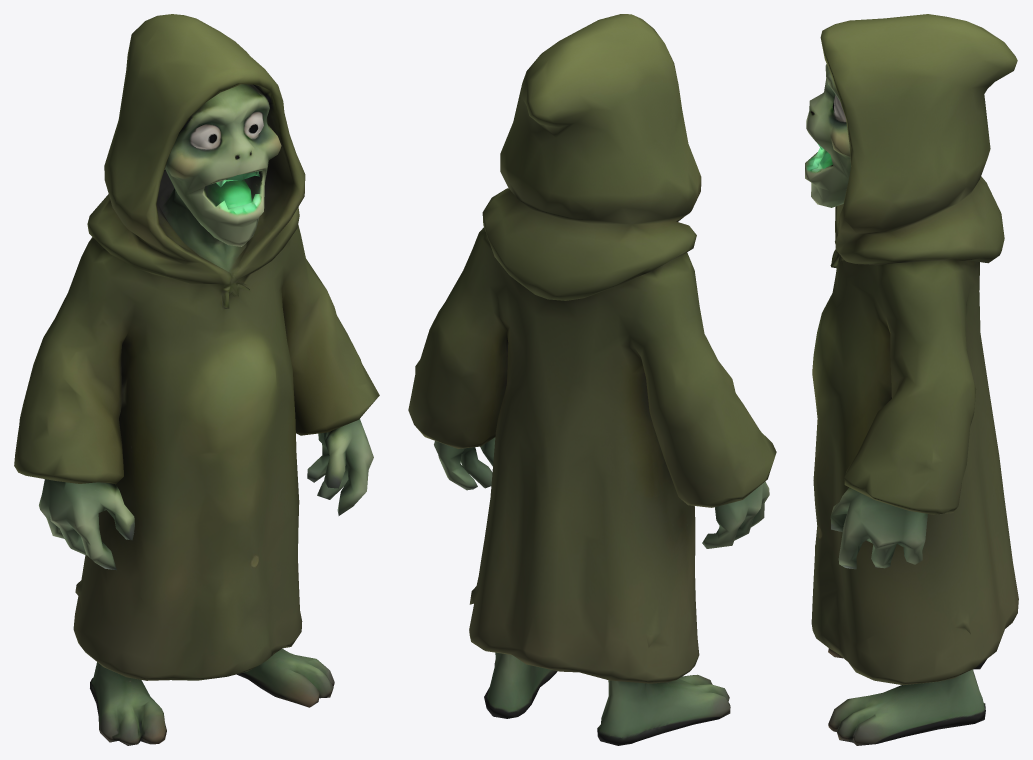
The model's file is spitter.glb.
3 renders of one model, left to right at view 1: azimuth 30°, elevation 25°; view 2: azimuth 150°, elevation 25°; view 3: azimuth 270°, elevation 25°, orthographic.
Visible parts, largest first — view 1: tripo_node_89e0ee0a-8192-44b1-bfd0-0d79321e88f1; view 2: tripo_node_89e0ee0a-8192-44b1-bfd0-0d79321e88f1; view 3: tripo_node_89e0ee0a-8192-44b1-bfd0-0d79321e88f1.
Boxes of the visible parts, <box> form: tripo_node_89e0ee0a-8192-44b1-bfd0-0d79321e88f1: <box>14,14,379,745</box>; tripo_node_89e0ee0a-8192-44b1-bfd0-0d79321e88f1: <box>408,14,776,745</box>; tripo_node_89e0ee0a-8192-44b1-bfd0-0d79321e88f1: <box>805,14,1018,745</box>.
Size of the model in its own units: 0.546 by 1 by 0.2875.
Materials: 1 (1 with a texture image).
